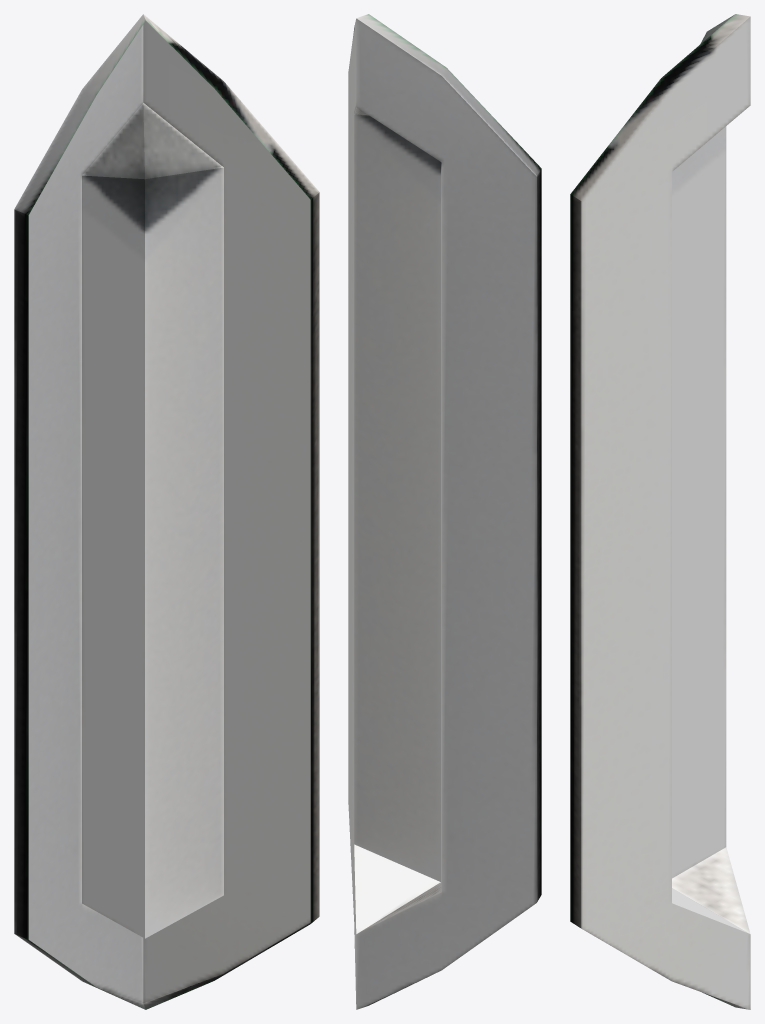
Rendered from manija.fbx.
3 renders of one model, left to right at view 1: azimuth 30°, elevation 25°; view 2: azimuth 150°, elevation 25°; view 3: azimuth 270°, elevation 25°, orthographic.
Visible parts, largest first — view 1: manija; view 2: manija; view 3: manija.
Boxes of the visible parts, left/top/right/bottom form: manija: left=14, top=14, right=319, bottom=1009; manija: left=348, top=14, right=541, bottom=1009; manija: left=570, top=14, right=750, bottom=1009.
Size of the model in its own units: 0.1485 by 0.5686 by 0.0935.
1 material, 1 textured.
